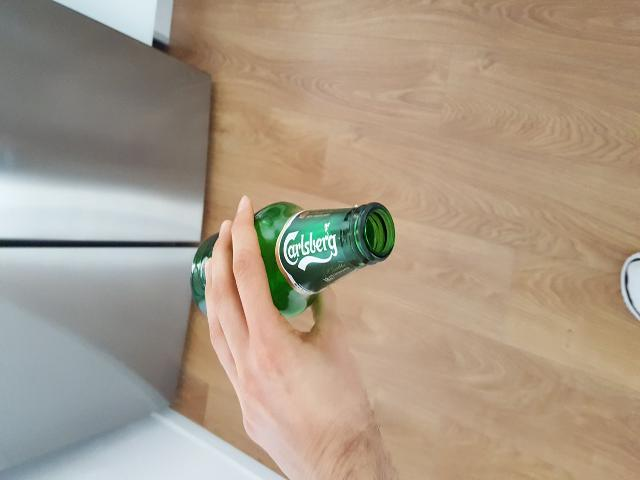beer: (191, 202, 395, 316)
